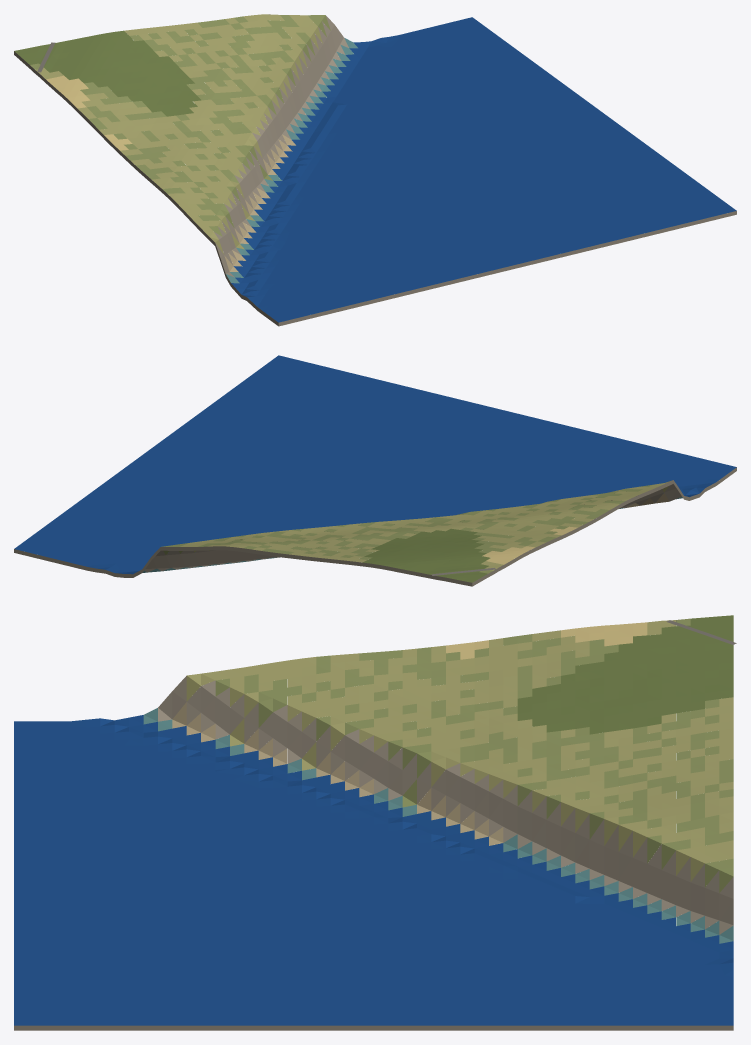
File: parca_+13_-6-uzak.glb
The picture shows the model from 3 angles, top to bottom: view 1: azimuth 30°, elevation 25°; view 2: azimuth 150°, elevation 25°; view 3: azimuth 270°, elevation 25°; orthographic projection. The views are drawn at different scales.
Visible parts, largest first — view 1: parca_+13_-6_arazi_uzak; view 2: parca_+13_-6_arazi_uzak; view 3: parca_+13_-6_arazi_uzak.
Part boxes in pixels (x1,y1,x2,y2): parca_+13_-6_arazi_uzak: (14,14,736,326); parca_+13_-6_arazi_uzak: (14,355,736,586); parca_+13_-6_arazi_uzak: (14,615,733,1030).
Bounding box in the file's own units: 1001 × 171 × 1005.
